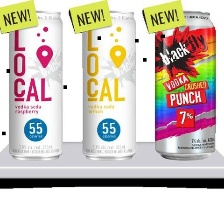can: (73, 6, 144, 164), (149, 6, 219, 166), (4, 6, 66, 165)
